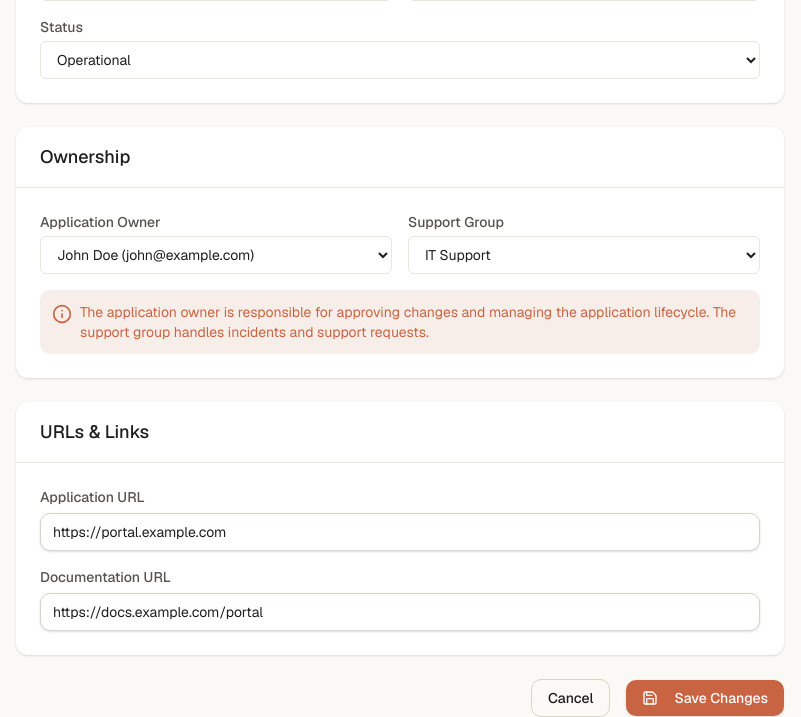
Test: EditApplicationPage › Form Submission › shows loading state during submission
The width and height of the screenshot is (801, 717).
(page scrolled)
What coordinates should you click on to do the following:
click the button "Save Changes"
I would click on:
 (705, 698)
Its box is [626,680,784,716].
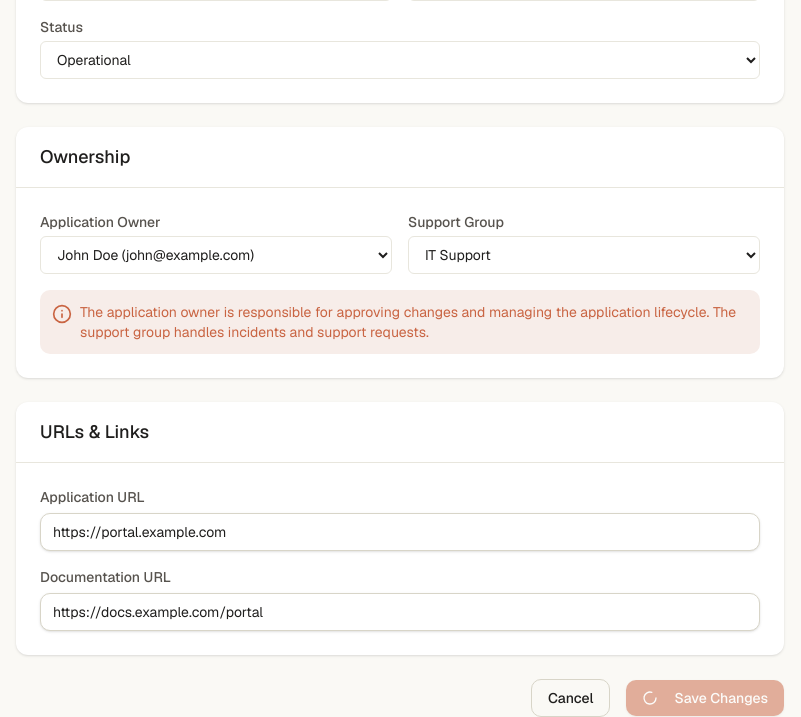
Result: the button "Save Changes" is disabled at [626,680,784,716]
